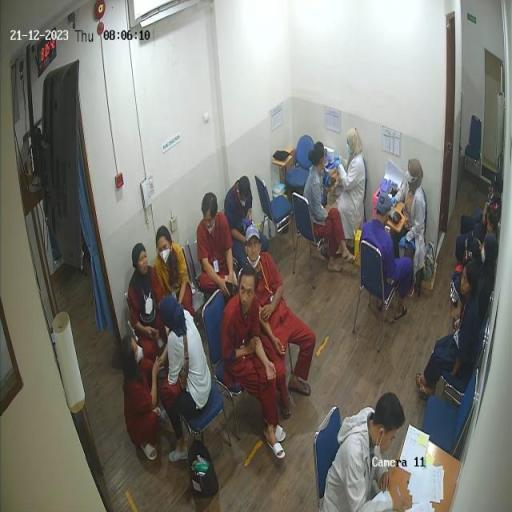person: (244, 227, 317, 417), (220, 266, 288, 463), (322, 392, 407, 511), (416, 260, 483, 399), (160, 295, 212, 465), (361, 191, 415, 321), (305, 143, 356, 272), (120, 335, 163, 462), (392, 159, 429, 298), (451, 235, 500, 332), (197, 193, 238, 303), (335, 128, 368, 264), (456, 174, 504, 266), (129, 243, 168, 348), (155, 227, 194, 318), (225, 177, 255, 249), (467, 205, 500, 266)
